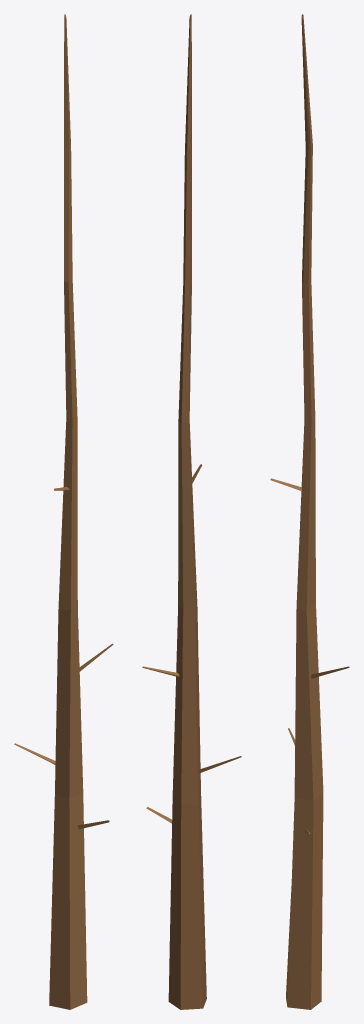
Rendered from Pine_Tree_NoLeaves_l_03.fbx.
3 views of the same model, side by side, from view 1: azimuth 30°, elevation 25°; view 2: azimuth 210°, elevation 25°; view 3: azimuth 330°, elevation 25° (orthographic).
Visible parts, largest first — view 1: Pine_Tree_NoLeaves_l_03; view 2: Pine_Tree_NoLeaves_l_03; view 3: Pine_Tree_NoLeaves_l_03.
Part boxes in pixels (left/top/right/bottom): Pine_Tree_NoLeaves_l_03: left=14, top=14, right=113, bottom=1009; Pine_Tree_NoLeaves_l_03: left=142, top=14, right=241, bottom=1009; Pine_Tree_NoLeaves_l_03: left=270, top=14, right=349, bottom=1009.
Bounding box in the file's own units: 165 × 1934 × 133.
